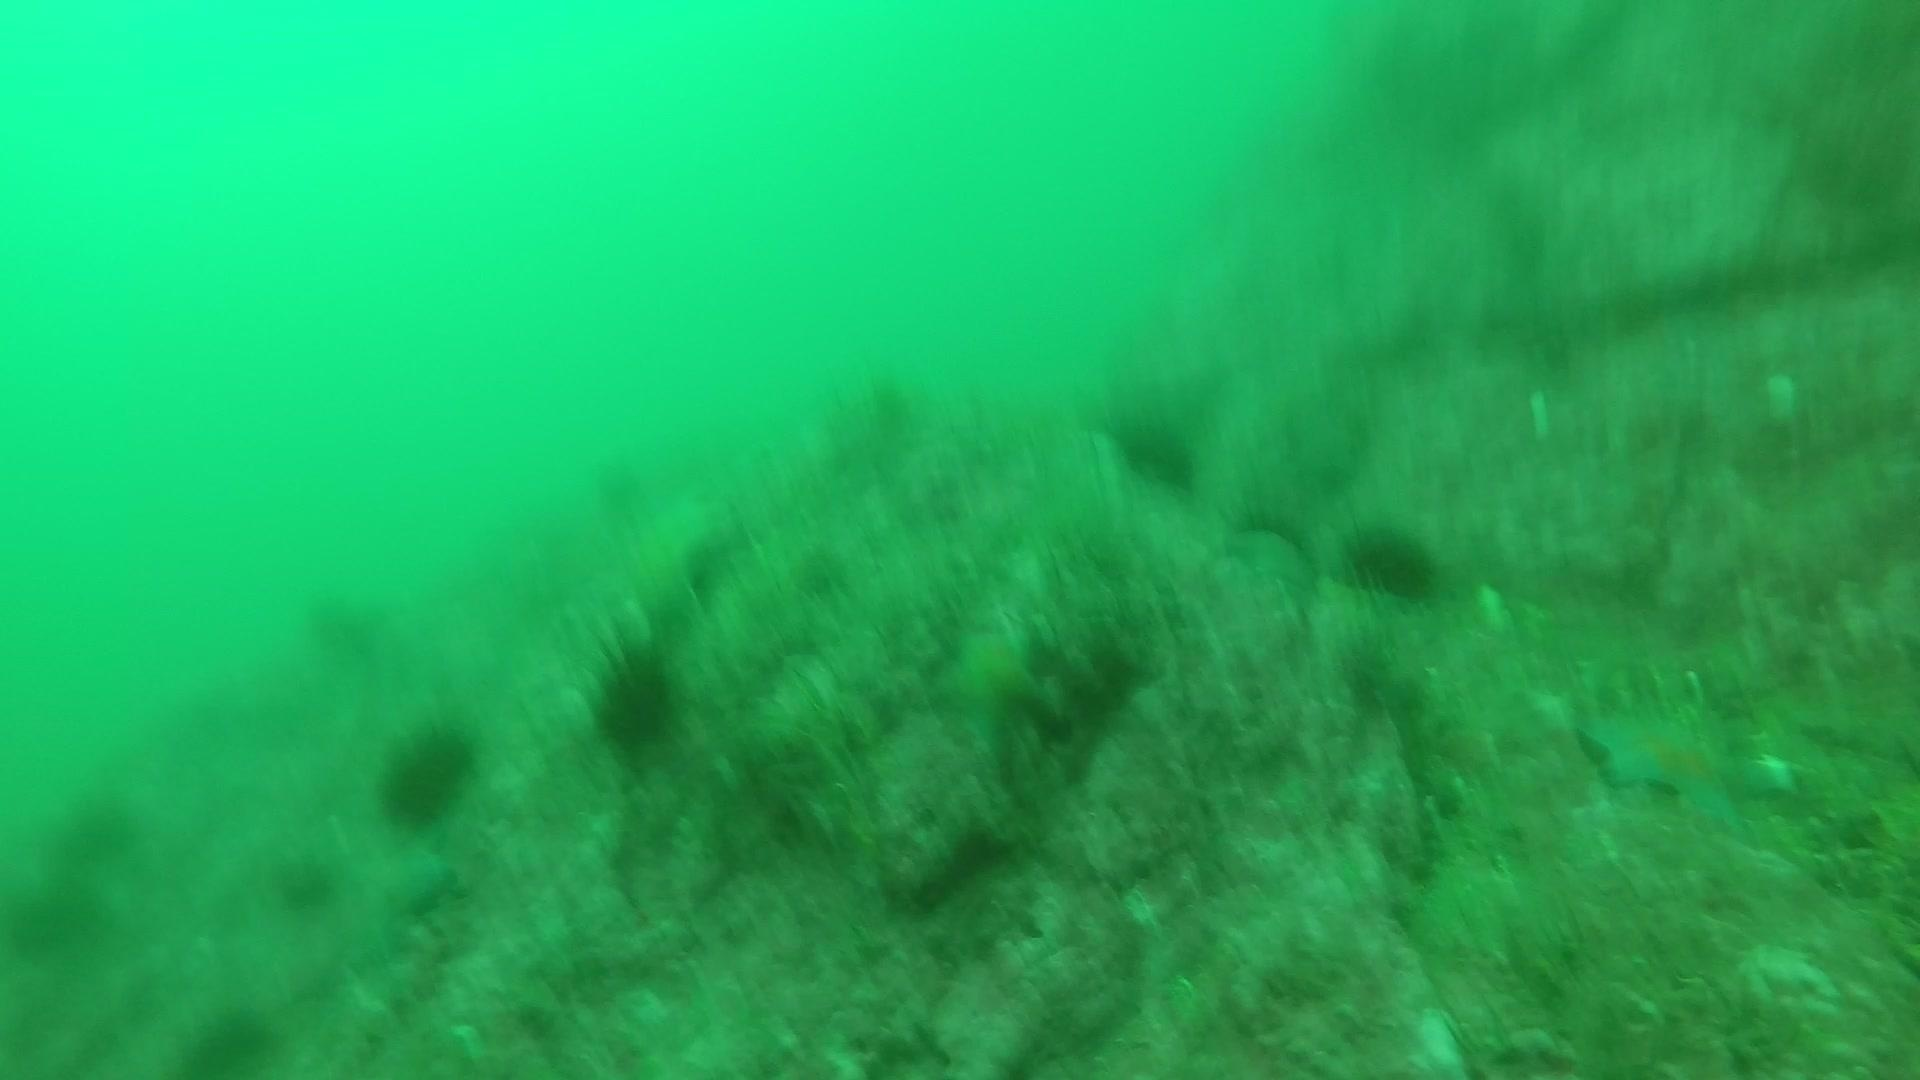echinus: (373, 716, 484, 832), (583, 638, 688, 756), (1338, 518, 1443, 605), (1108, 407, 1203, 493), (47, 787, 145, 869), (177, 1004, 284, 1075), (301, 585, 389, 662), (269, 851, 342, 916)
starfish: (1572, 690, 1784, 833), (926, 611, 1069, 757)
